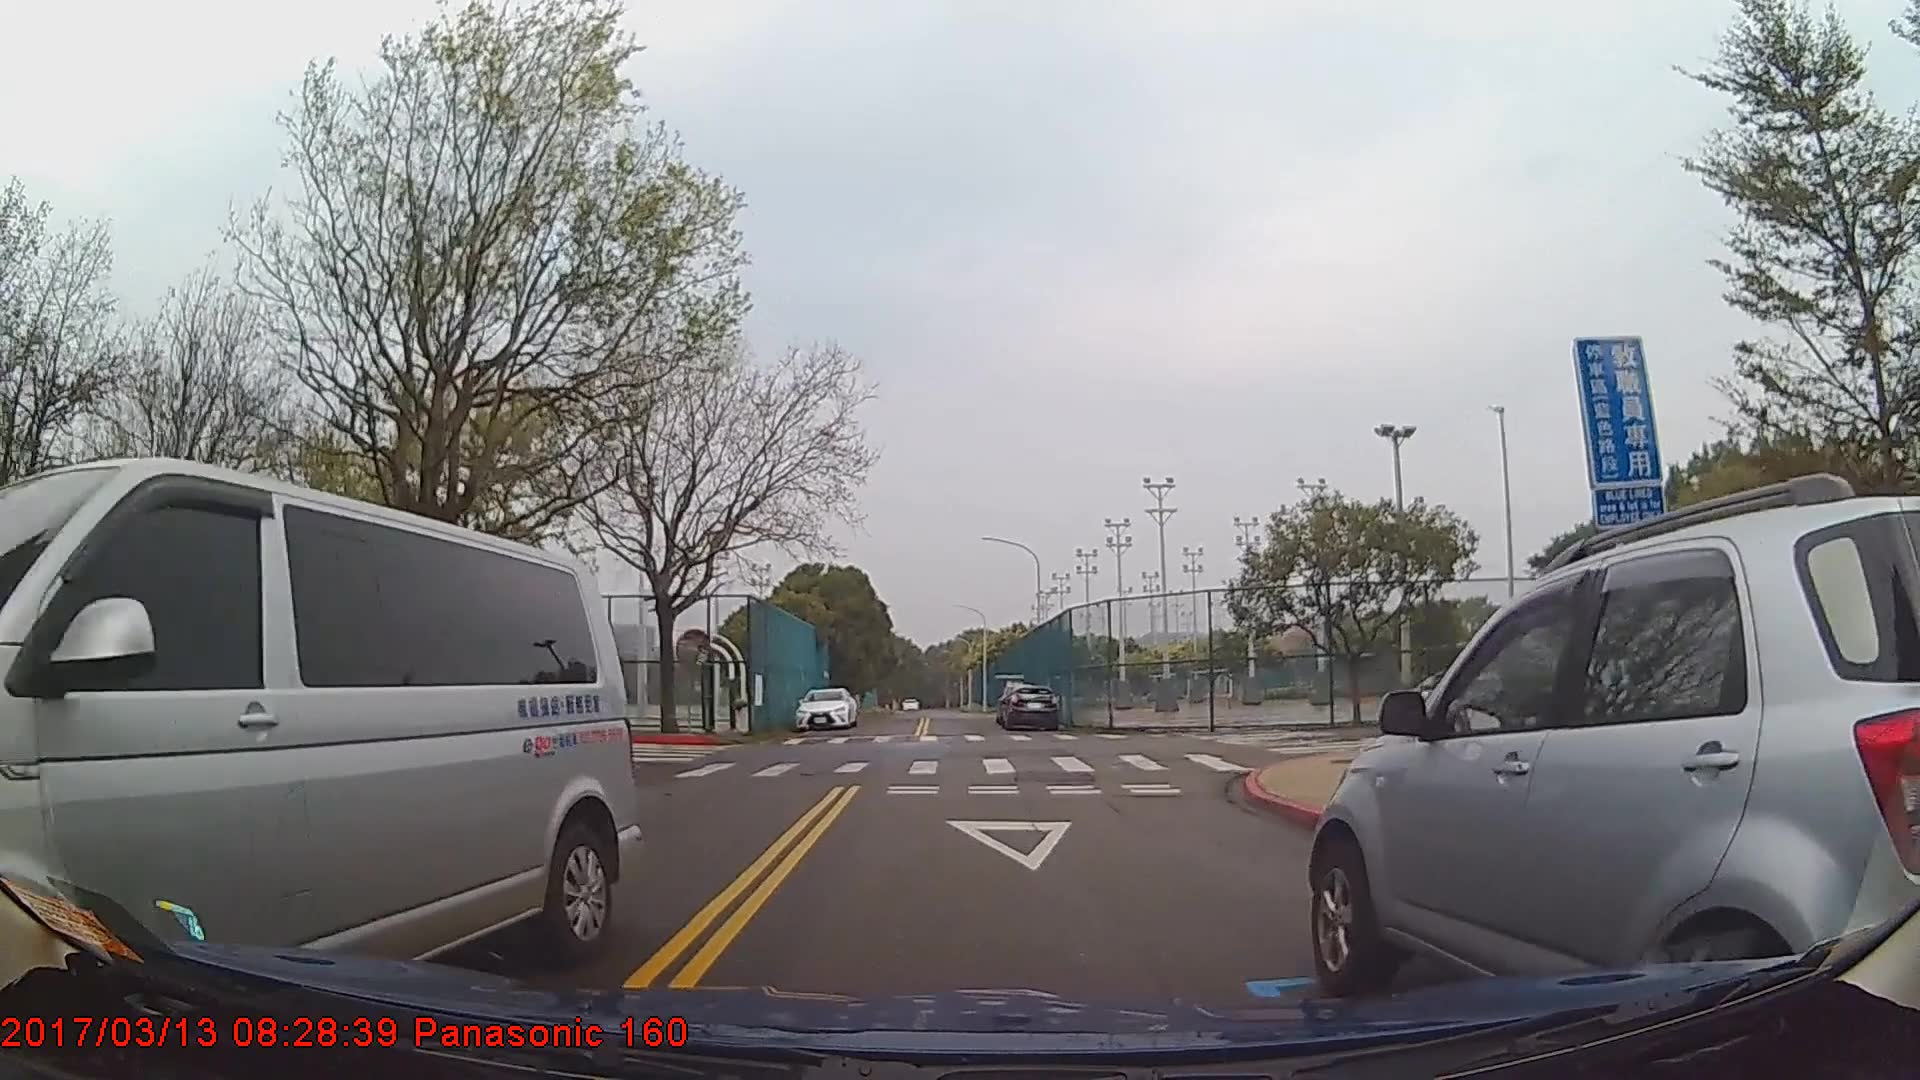vehicle: (0, 452, 638, 1006), (1307, 495, 1920, 1033), (793, 684, 858, 731), (1001, 680, 1060, 731)
